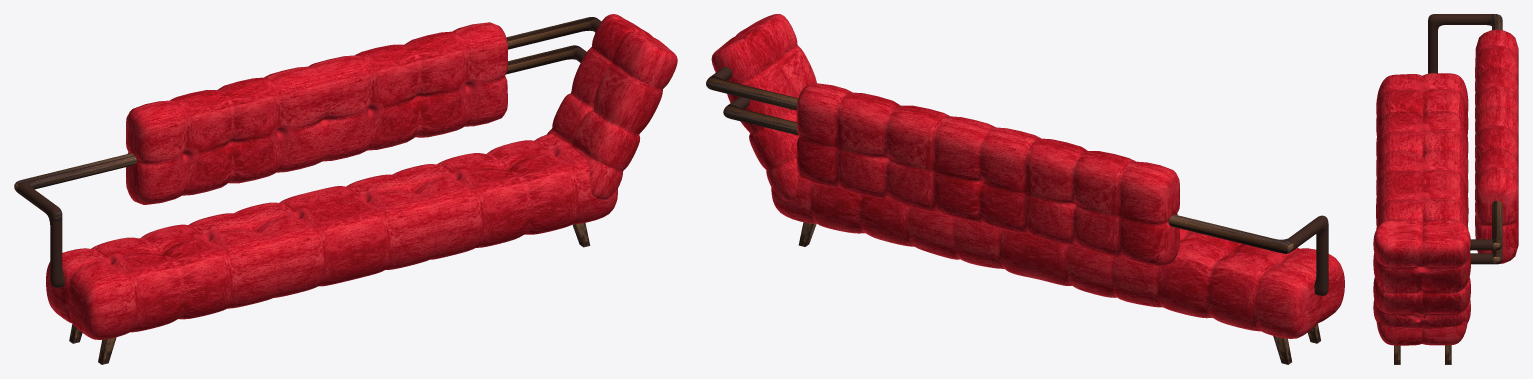
The model's file is couch.obj.
3 renders of one model, left to right at view 1: azimuth 30°, elevation 25°; view 2: azimuth 150°, elevation 25°; view 3: azimuth 270°, elevation 25°, orthographic. The views are drawn at different scales.
Parts seen in each view (by area): view 1: Merged_Meshes, Box, Box3, Box4; view 2: Box, Merged_Meshes, Box3, Box4; view 3: Merged_Meshes, Box, Box3, Box4, Box8, Box7.
Part boxes in pixels (box(x1,y1,x2,y2)): Merged_Meshes: box(46, 14, 677, 339); Box: box(126, 22, 507, 204); Box3: box(14, 45, 586, 287); Box4: box(506, 17, 601, 49); Box: box(796, 83, 1179, 266); Merged_Meshes: box(711, 14, 1344, 338); Box3: box(723, 97, 1328, 295); Box4: box(706, 67, 798, 110); Merged_Meshes: box(1373, 73, 1470, 345); Box: box(1475, 29, 1518, 264); Box3: box(1428, 14, 1502, 264); Box4: box(1470, 200, 1502, 250); Box8: box(1445, 345, 1451, 364); Box7: box(1394, 345, 1400, 364).
Bounding box in the file's own units: 8.59 × 2.6 × 2.03.
2 materials, 2 textured.
